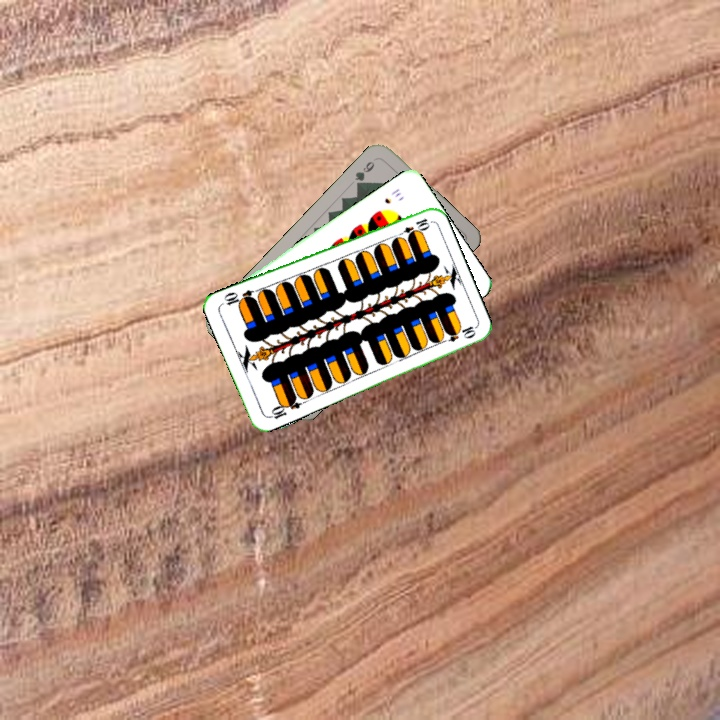E10: (265, 393, 303, 421), (393, 214, 432, 240)
G9: (350, 154, 380, 190)
S10: (380, 184, 404, 206)
